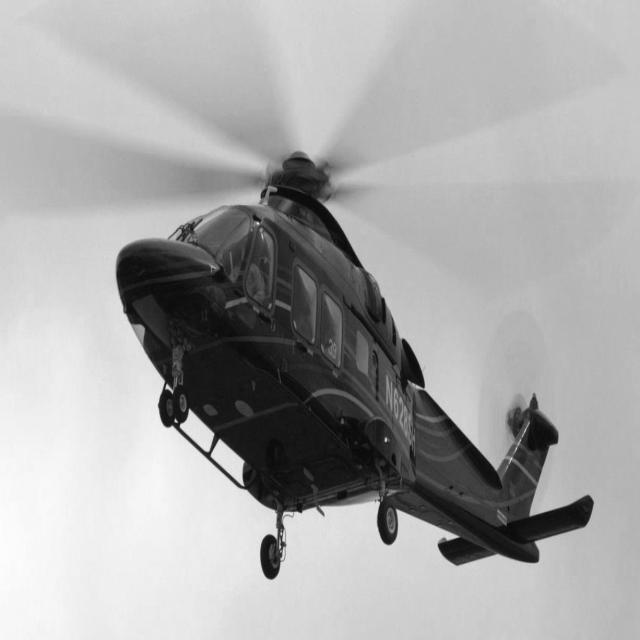helicopter: (53, 44, 596, 602)
